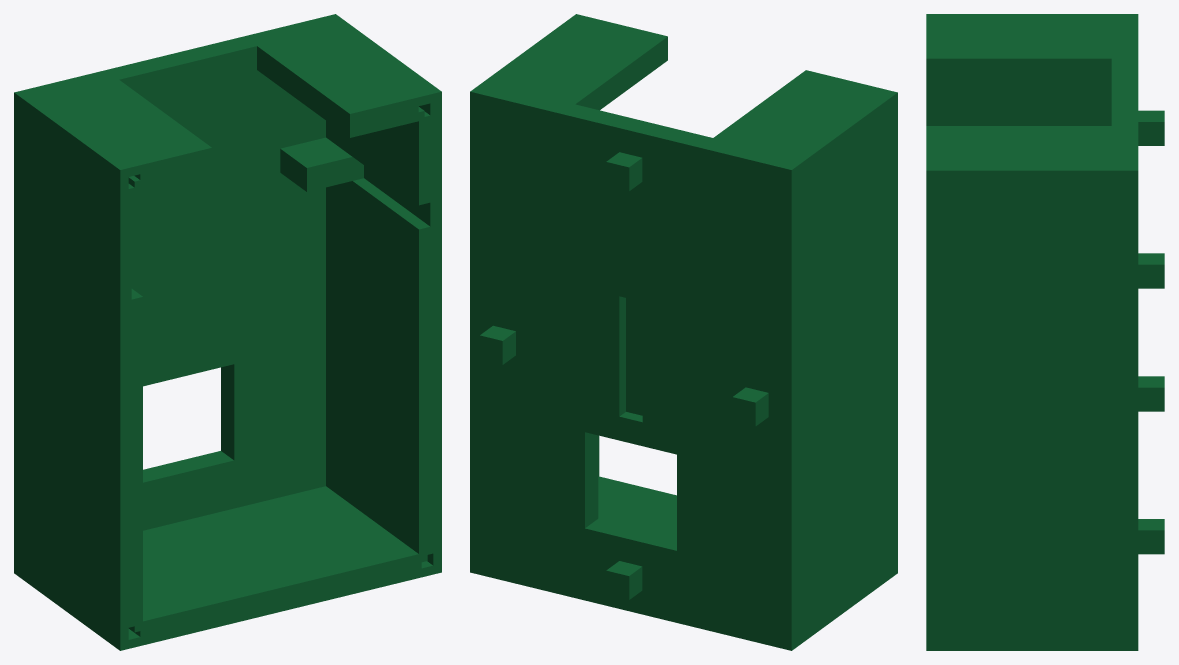
Rendered from tinker.obj.
The picture shows the model from 3 angles, left to right: view 1: azimuth 30°, elevation 25°; view 2: azimuth 150°, elevation 25°; view 3: azimuth 270°, elevation 25°; orthographic projection.
Parts seen in each view (by area): view 1: obj_0; view 2: obj_0; view 3: obj_0.
Boxes of the visible parts, <box> form: obj_0: <box>14,14,441,650</box>; obj_0: <box>470,14,897,650</box>; obj_0: <box>926,14,1164,650</box>.
Bounding box in the file's own units: 14 × 20 × 9.
